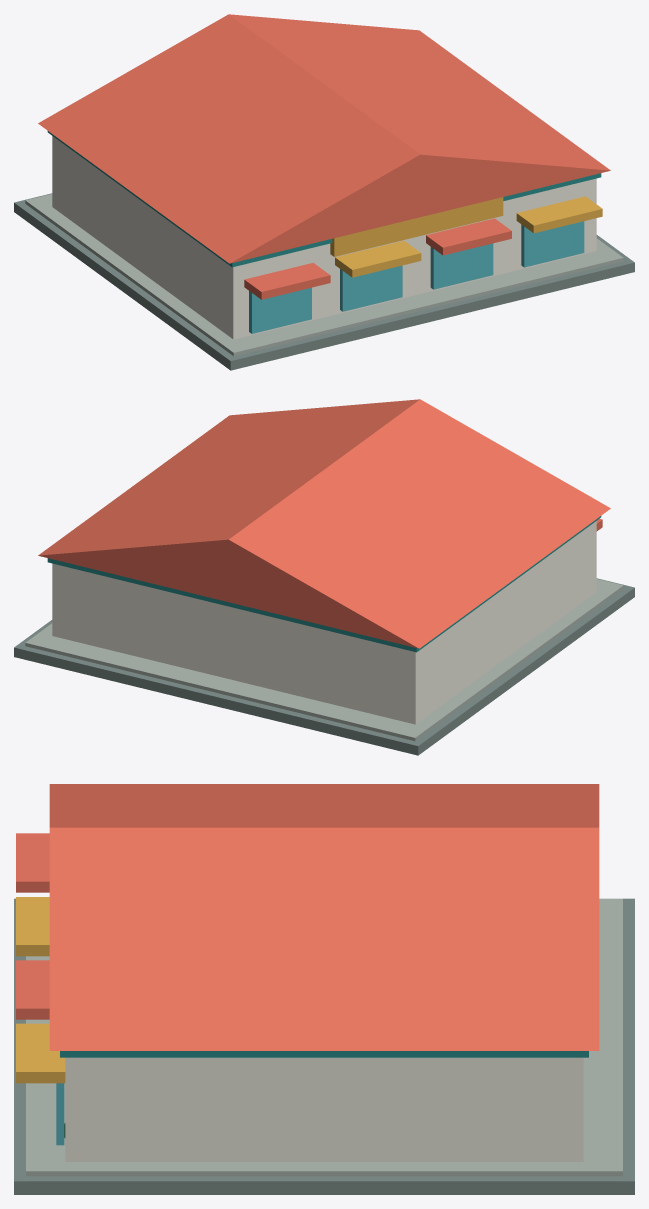
Rendered from market_lv1.glb.
3 views of the same model, one above another, from view 1: azimuth 30°, elevation 25°; view 2: azimuth 150°, elevation 25°; view 3: azimuth 270°, elevation 25° (orthographic). The views are drawn at different scales.
Visible parts, largest first — view 1: coral, ivory, concrete, pavement, glass, gold, teal; view 2: coral, ivory, concrete, pavement, teal; view 3: coral, ivory, concrete, pavement, gold, teal.
Boxes of the visible parts, <box> form: coral: <box>38,14,610,299</box>; ivory: <box>52,136,596,339</box>; concrete: <box>25,194,623,356</box>; pavement: <box>14,193,634,370</box>; glass: <box>249,221,584,333</box>; gold: <box>330,196,602,277</box>; teal: <box>47,131,601,267</box>; coral: <box>38,399,610,648</box>; ivory: <box>52,521,596,724</box>; concrete: <box>25,579,623,741</box>; pavement: <box>14,578,634,755</box>; teal: <box>47,516,601,652</box>; coral: <box>16,784,599,1050</box>; ivory: <box>65,1057,583,1161</box>; concrete: <box>26,898,622,1176</box>; pavement: <box>14,898,634,1194</box>; gold: <box>16,897,65,1083</box>; teal: <box>60,1051,588,1057</box>.
Size of the model in its own units: 9.8 by 3.65 by 9.1.
